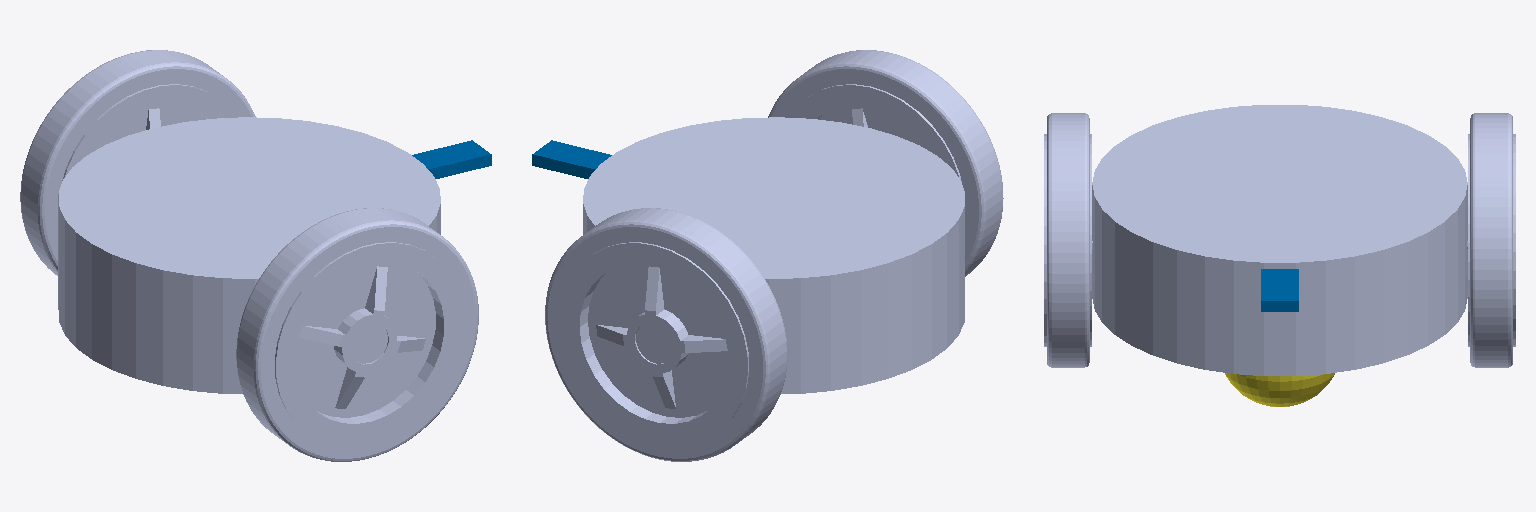
robot.urdf — mobile_robot3:
<?xml version="1.0" encoding="utf-8"?>

<robot name="mobile_robot3">

  

  <!--chassis link-->
  <link
    name="base_link">
    <inertial>
      <origin
        xyz="-1.84681865528865E-09 1.67303074858624E-09 0.0499999976569369"
        rpy="0 0 0" />
      <mass
        value="6.98357861707715" />
      <inertia
        ixx="0.0450125089661637"
        ixy="-1.10601386756473E-09"
        ixz="-1.80119500473885E-11"
        iyy="0.0456474317228151"
        iyz="1.80836842276469E-09"
        izz="0.0788828049167458" />
    </inertial>

    <visual>
      <origin
        xyz="0 0 0"
        rpy="0 0 0" />
      <geometry>
        <mesh
          filename="package://mobile_robot3/meshes/base_link.STL" />
      </geometry>
      <material
        name="">
        <color
          rgba="0.792156862745098 0.819607843137255 0.933333333333333 1" />
      </material>
    </visual>

    <collision>
      <origin
        xyz="0 0 0"
        rpy="0 0 0" />
      <geometry>
        <mesh
          filename="package://mobile_robot3/meshes/base_link.STL" />
      </geometry>
    </collision>

  </link>

  <!-- right wheel link-->
  <link
    name="right_wheel">

    <inertial>
      <origin
        xyz="1.0763E-17 0.017436 0"
        rpy="0 0 0" />
      <mass
        value="0.89812" />
      <inertia
        ixx="0.002689"
        ixy="-1.3205E-19"
        ixz="-3.7164E-19"
        iyy="0.0051879"
        iyz="-7.1334E-22"
        izz="0.002689" />
    </inertial>

    <visual>
      <origin
        xyz="0 0 0"
        rpy="0 0 0" />
      <geometry>
        <mesh
          filename="package://mobile_robot3/meshes/right_wheel.STL" />
      </geometry>
      <material
        name="">
        <color
          rgba="0.79216 0.81961 0.93333 1" />
      </material>
    </visual>

    <collision>
      <origin
        xyz="0 0 0"
        rpy="0 0 0" />
      <geometry>
        <mesh
          filename="package://mobile_robot3/meshes/right_wheel.STL" />
      </geometry>
    </collision>

  </link>
  <!-- right wheel joint-->
  <joint
    name="right_wheel_joint"
    type="continuous">
    <origin
      xyz="0 -0.1861 0.05"
      rpy="0 0 0" />
    <parent
      link="base_link" />
    <child
      link="right_wheel" />
    <axis
      xyz="0 1 0" />
    <limit
      effort="10"
      velocity="10" />
  </joint>

  <!-- left wheel link-->
  <link
    name="left_wheel">

    <inertial>
      <origin
        xyz="-2.9627E-18 -0.017436 0"
        rpy="0 0 0" />
      <mass
        value="0.89812" />
      <inertia
        ixx="0.002689"
        ixy="-3.0433E-20"
        ixz="2.353E-19"
        iyy="0.0051879"
        iyz="-8.1708E-21"
        izz="0.002689" />
    </inertial>

    <visual>
      <origin
        xyz="0 0 0"
        rpy="0 0 0" />
      <geometry>
        <mesh
          filename="package://mobile_robot3/meshes/left_wheel.STL" />
      </geometry>
      <material
        name="">
        <color
          rgba="0.79216 0.81961 0.93333 1" />
      </material>
    </visual>

    <collision>
      <origin
        xyz="0 0 0"
        rpy="0 0 0" />
      <geometry>
        <mesh
          filename="package://mobile_robot3/meshes/left_wheel.STL" />
      </geometry>
    </collision>

  </link>
  <!-- left wheel joint-->
  <joint
    name="left_wheel_joint"
    type="continuous">
    <origin
      xyz="0 0.1861 0.05"
      rpy="0 0 0" />
    <parent
      link="base_link" />
    <child
      link="left_wheel" />
    <axis
      xyz="0 1 0" />
    <limit
      effort="10"
      velocity="10" />
  </joint>

  <!--castor wheel joint-->
  <joint name="caster_wheel_joint" type="fixed">
    <parent link="base_link"/>
    <child link="caster_wheel"/>
    <origin xyz="0.09 0 0" rpy="0 0 0"/>
  </joint>

  <!--castor wheel link-->
  <link name="caster_wheel">
    <visual>
        <geometry>
            <sphere radius="0.05" />
        </geometry>
        <material name="black"/>
    </visual>
    <collision>
        <geometry>
            <sphere radius="0.05" />
        </geometry>
        <material name="black"/>
    </collision>
    

    <inertial>
      <origin xyz="0 0 0" rpy="0 0 0"/>
      <mass
        value="0.5" />
      <inertia
        ixx="0.00001"
        ixy="0"
        ixz="0"
        iyy="0.00001"
        iyz="0"
        izz="0.00001" />
    </inertial>
    
  </link>

  <!-- colour for castor wheel and making the castor wheel to be frictionless-->
  <gazebo reference="caster_wheel">
    <material>Gazebo/Black</material>
    <mu1 value="0.00"/>
    <mu2 value="0.00"/>
  </gazebo>

  <!-- camera joint-->
  <joint name="camera_joint" type="fixed">
    <parent link="base_link"/>
    <child link="camera_link"/>
    <origin xyz="0.18 0 0.09" rpy="0 1.5708 0"/>
  </joint>

  <link name="camera_link">
    <visual>
        <geometry>
            <box size="0.010 0.03 0.06"/>
        </geometry>
        <material name="red"/>
    </visual>
  </link>


  <joint name="camera_optical_joint" type="fixed">
    <origin xyz="0 0 0" rpy="-1.57079632679 0 -1.57079632679" />
    <parent link="camera_link" />
    <child link="camera_link_optical" />
  </joint>

  <link name="camera_link_optical"></link>

  <gazebo reference="camera_link">
    <material>Gazebo/Red</material>

    <sensor name="camera" type="camera">
            <pose> 0 0 0 0 0 0 </pose>
            <visualize>true</visualize>
            <update_rate>10</update_rate>
            <camera>
                <horizontal_fov>1.089</horizontal_fov>
                <image>
                    <format>R8G8B8</format>
                    <width>640</width>
                    <height>480</height>
                </image>
                <clip>
                    <near>0.05</near>
                    <far>8.0</far>
                </clip>
            </camera>

            <plugin name="camera_controller" filename="libgazebo_ros_camera.so">
                <frame_name>camera_link_optical</frame_name>
            </plugin>
    </sensor>
  </gazebo>
  
  <!-- differential drive plugin -->
  <!---->
  <gazebo>
    <plugin name="differential_drive_controller" filename="libgazebo_ros_diff_drive.so">

      <!-- Plugin update rate in Hz -->
      <updateRate>20</updateRate>

      <!-- Name of left joint, defaults to `left_joint` -->
      <leftJoint>left_wheel_joint</leftJoint>

      <!-- Name of right joint, defaults to `right_joint` -->
      <rightJoint>right_wheel_joint</rightJoint>

      <!-- The distance from the center of one wheel to the other, in meters, defaults to 0.34 m -->
      <wheelSeparation>0.3068</wheelSeparation>

      <!-- Diameter of the wheels, in meters, defaults to 0.15 m -->
      <wheelDiameter>0.2032</wheelDiameter>

      <!-- Wheel acceleration, in rad/s^2, defaults to 0.0 rad/s^2 -->
      <wheelAcceleration>1.0</wheelAcceleration>

      <!-- Maximum torque which the wheels can produce, in Nm, defaults to 5 Nm -->
      <wheelTorque>20000</wheelTorque>

      <!-- Topic to receive geometry_msgs/Twist message commands, defaults to `cmd_vel` -->
      <commandTopic>cmd_vel</commandTopic>

      <!-- Topic to publish nav_msgs/Odometry messages, defaults to `odom` -->
      <odometryTopic>odom</odometryTopic>

      <!-- Odometry frame, defaults to `odom` -->
      <odometryFrame>odom</odometryFrame>

      <!-- Robot frame to calculate odometry from, defaults to `base_footprint` -->
      <robotBaseFrame>base_link</robotBaseFrame>

      <!-- Odometry source, 0 for ENCODER, 1 for WORLD, defaults to WORLD -->
      <odometrySource>1</odometrySource>

      <!-- Set to true to publish transforms for the wheel links, defaults to false -->
      <publishWheelTF>true</publishWheelTF>

      <!-- Set to true to publish transforms for the odometry, defaults to true -->
      <publishOdom>true</publishOdom>

      <!-- Set to true to publish sensor_msgs/JointState on /joint_states for the wheel joints, defaults to false -->
      <publishWheelJointState>true</publishWheelJointState>

      <!-- Set to true to swap right and left wheels, defaults to true -->
      <legacyMode>false</legacyMode>
    </plugin>

  </gazebo>

  <gazebo>
    <plugin name="gazebo_ros_control" filename="libgazebo_ros_control.so">
      <robotNamespace>/MYROBOT</robotNamespace>
      <robotSimType>gazebo_ros_control/DefaultRobotHWSim</robotSimType>
    </plugin>
  </gazebo>

  <!--pid left wheel trans-->
  <transmission name="left_tran">
    <type>transmission_interface/SimpleTransmission</type>
    <joint name="left_wheel_joint">
      <hardwareInterface>hardware_interface/EffortJointInterface</hardwareInterface>
    </joint>
    <actuator name="left_wheel_motor">
      <hardwareInterface>hardware_interface/EffortJointInterface</hardwareInterface>
      <mechanicalReduction>1</mechanicalReduction>
    </actuator>
  </transmission>

  <!--pid right wheel trans-->
  <transmission name="right_tran">
    <type>transmission_interface/SimpleTransmission</type>
    <joint name="right_wheel_joint">
      <hardwareInterface>hardware_interface/EffortJointInterface</hardwareInterface>
    </joint>
    <actuator name="right_wheel_motor">
      <hardwareInterface>hardware_interface/EffortJointInterface</hardwareInterface>
      <mechanicalReduction>1</mechanicalReduction>
    </actuator>
  </transmission>

</robot>

--- What the picture shows (computed from the rendered views, not written in the file) ---
Views: 3 orthographic renders of the robot side by side, from view 1: azimuth 30°, elevation 25°; view 2: azimuth 150°, elevation 25°; view 3: azimuth 270°, elevation 25°.
Model mobile_robot3 with 6 links and 5 joints (2 continuous, 3 fixed), rooted at base_link, posed all joints at 0.
Visible links, largest first — view 1: base_link, right_wheel, left_wheel, camera_link; view 2: base_link, left_wheel, right_wheel, camera_link; view 3: base_link, right_wheel, left_wheel, caster_wheel, camera_link.
Link boxes in pixels (<box>): base_link: <box>58,117,440,393</box>; right_wheel: <box>236,208,478,461</box>; left_wheel: <box>20,50,255,275</box>; camera_link: <box>412,140,491,178</box>; base_link: <box>583,117,964,393</box>; left_wheel: <box>545,208,787,461</box>; right_wheel: <box>768,50,1003,276</box>; camera_link: <box>532,140,611,178</box>; base_link: <box>1092,105,1467,375</box>; right_wheel: <box>1044,113,1092,367</box>; left_wheel: <box>1467,113,1515,367</box>; caster_wheel: <box>1225,373,1334,406</box>; camera_link: <box>1261,269,1298,311</box>.
Size in the robot's own frame: 0.3595 by 0.3762 by 0.2032 metres.
3 mesh visuals loaded from 3 distinct referenced files (3 binary STL).